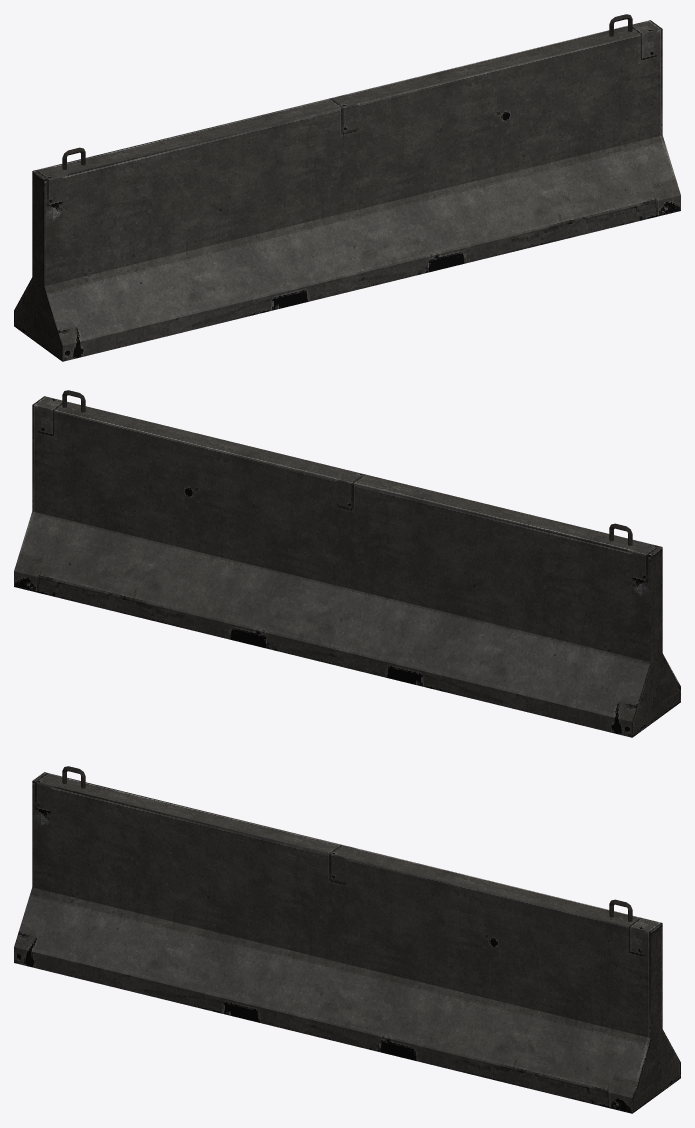
File: barricade_b_1.glb
3 renders of one model, top to bottom at view 1: azimuth 30°, elevation 25°; view 2: azimuth 150°, elevation 25°; view 3: azimuth 330°, elevation 25°, orthographic.
Parts seen in each view (by area): view 1: barricade_b_1; view 2: barricade_b_1; view 3: barricade_b_1.
Part boxes in pixels (box(x1,y1,x2,y2)): barricade_b_1: box(14, 14, 680, 361); barricade_b_1: box(14, 390, 680, 737); barricade_b_1: box(14, 766, 680, 1113).
Bounding box in the file's own units: 2.94 × 0.8466 × 0.4.
Materials: 1 (1 with a texture image).
